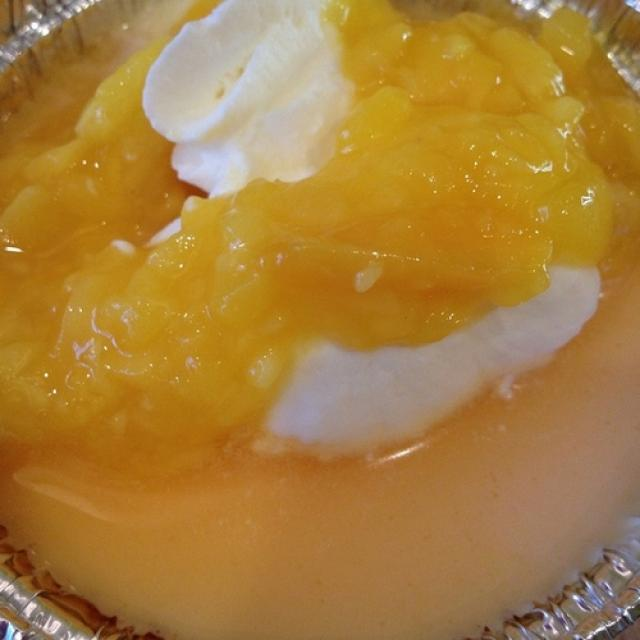蛋糕甜品: (7, 10, 634, 631)
